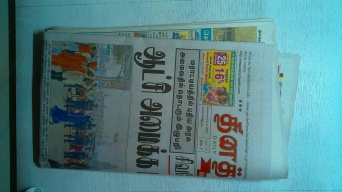p: (39, 17, 300, 188)
